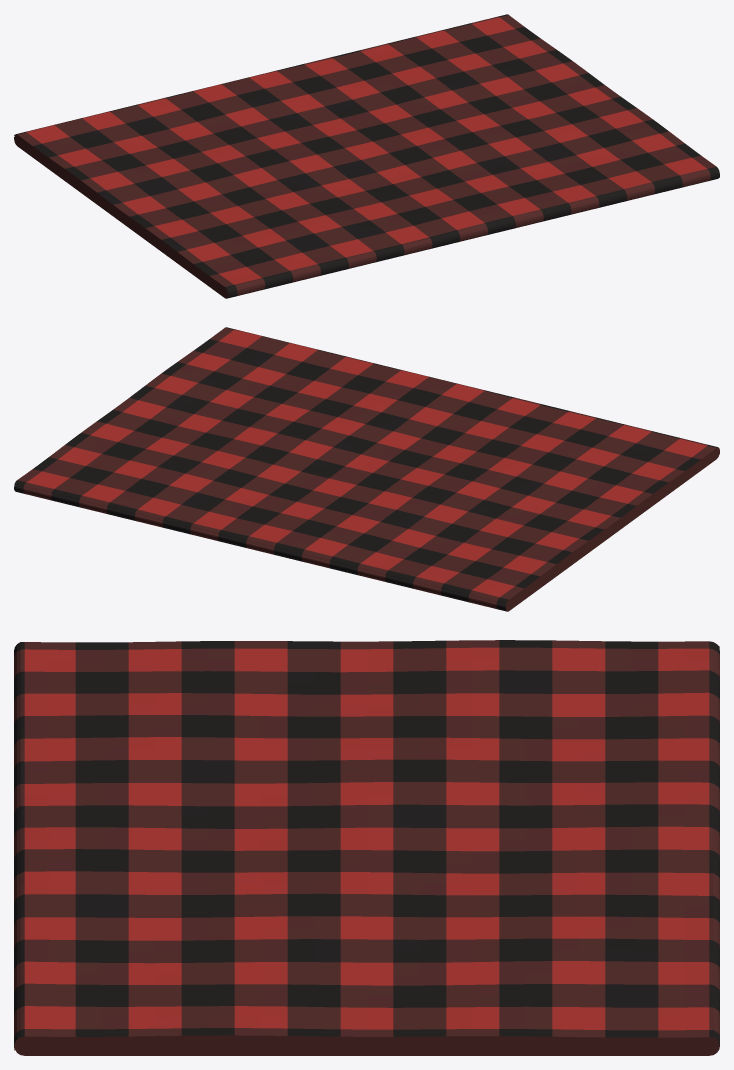
File: blanket.glb
3 renders of one model, top to bottom at view 1: azimuth 30°, elevation 25°; view 2: azimuth 150°, elevation 25°; view 3: azimuth 270°, elevation 25°, orthographic. The views are drawn at different scales.
Visible parts, largest first — view 1: blanketLayer; view 2: blanketLayer; view 3: blanketLayer.
Part boxes in pixels (box(x1,y1,x2,y2)): blanketLayer: box(14, 14, 719, 298); blanketLayer: box(14, 327, 719, 611); blanketLayer: box(14, 640, 719, 1055).
Bounding box in the file's own units: 1.06 × 0.0255 × 0.8.
